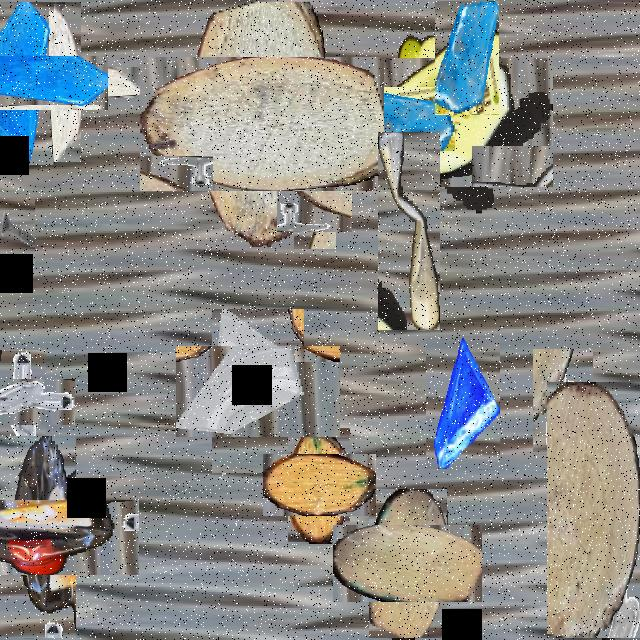glass: (194, 327, 322, 455), (426, 338, 500, 469), (0, 29, 81, 137), (435, 1, 499, 116)
metal: (533, 349, 593, 455), (0, 364, 60, 439), (286, 182, 344, 241), (0, 192, 35, 267)
plastic: (385, 45, 541, 200), (0, 467, 107, 606), (378, 132, 440, 330)
wood: (167, 30, 357, 219), (547, 382, 640, 638), (351, 507, 465, 620), (17, 34, 113, 130), (275, 442, 363, 530)
